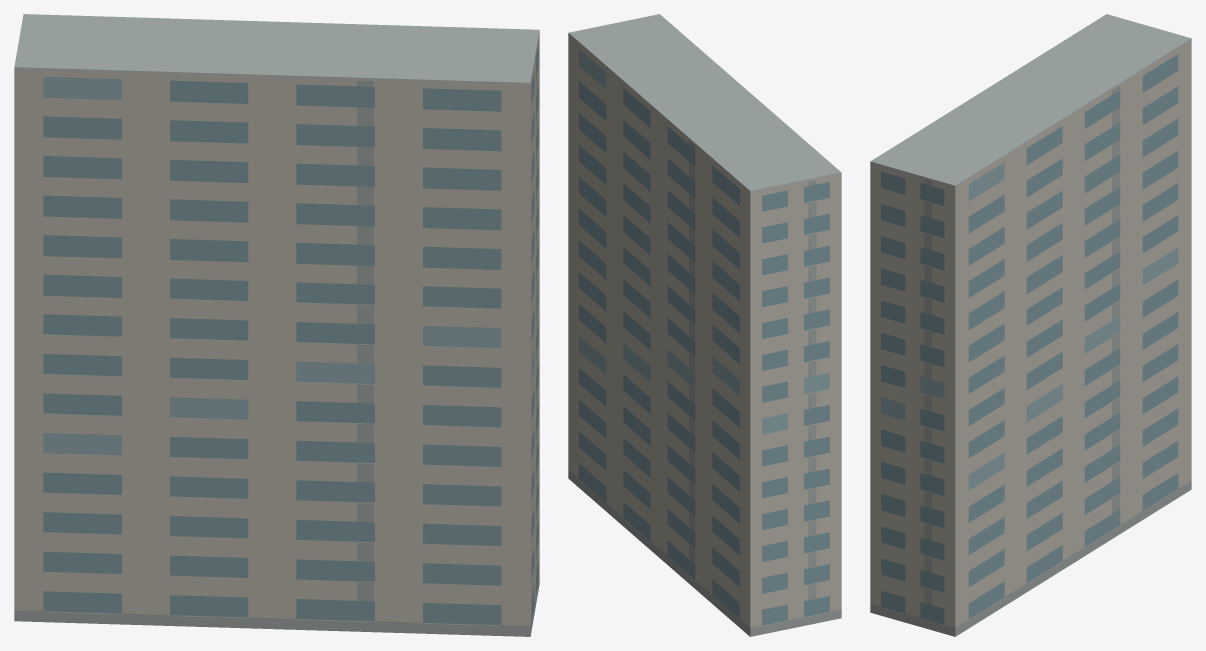
Rendered from residential-3c77af02-5df7-4fcb-b5c4-7d205280411e.glb.
3 views of the same model, side by side, from view 1: azimuth 30°, elevation 25°; view 2: azimuth 150°, elevation 25°; view 3: azimuth 270°, elevation 25° (orthographic). The views are drawn at different scales.
Visible parts, largest first — view 1: residential-3c77af02-5df7-4fcb-b5c4-7d205280411e.tmp; view 2: residential-3c77af02-5df7-4fcb-b5c4-7d205280411e.tmp; view 3: residential-3c77af02-5df7-4fcb-b5c4-7d205280411e.tmp.
Boxes of the visible parts, box(x1,y1,x2,y2) form: residential-3c77af02-5df7-4fcb-b5c4-7d205280411e.tmp: box(14, 14, 539, 636); residential-3c77af02-5df7-4fcb-b5c4-7d205280411e.tmp: box(568, 14, 841, 636); residential-3c77af02-5df7-4fcb-b5c4-7d205280411e.tmp: box(870, 14, 1191, 636).
Size of the model in its own units: 35.11 by 43 by 27.76.
